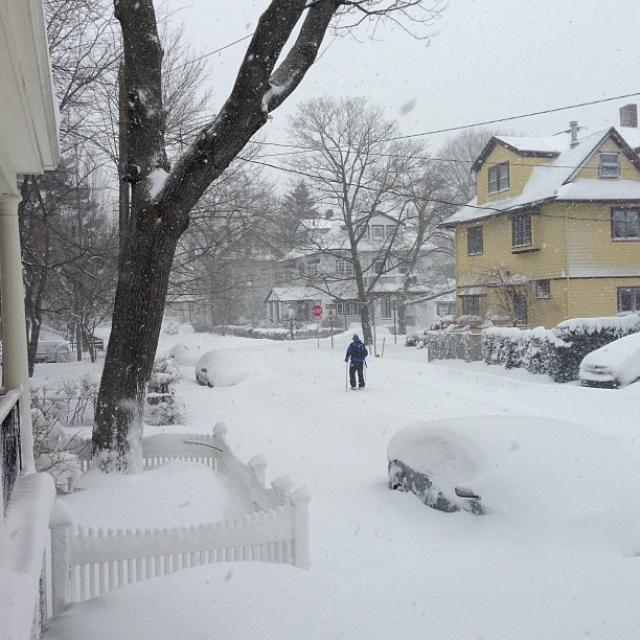Vehicle: (386, 414, 637, 516), (579, 328, 640, 390), (194, 348, 243, 388)
